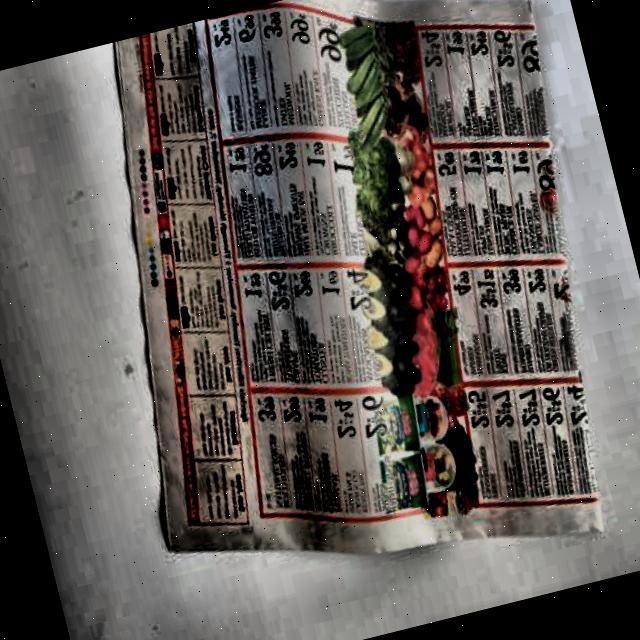paper: (44, 0, 640, 616)
